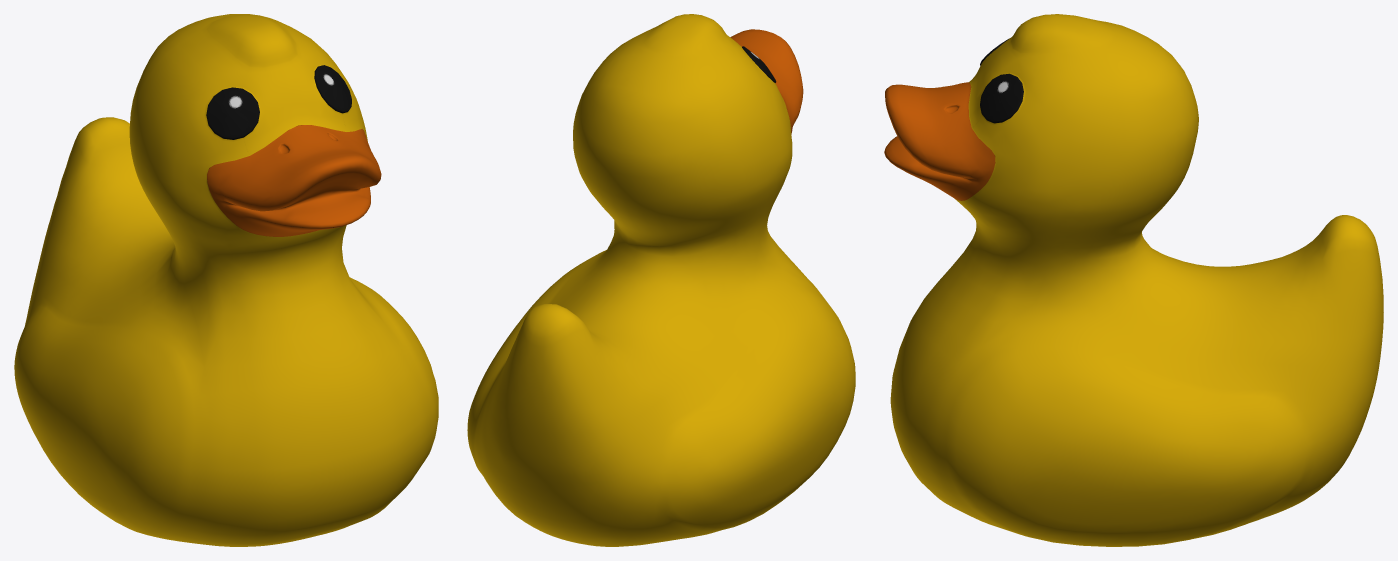
The model's file is duck-original.glb.
3 renders of one model, left to right at view 1: azimuth 30°, elevation 25°; view 2: azimuth 150°, elevation 25°; view 3: azimuth 270°, elevation 25°, orthographic. The views are drawn at different scales.
Visible parts, largest first — view 1: Node1; view 2: Node1; view 3: Node1.
Boxes of the visible parts, x1=… form: Node1: x1=14, y1=14, x2=438, y2=546; Node1: x1=467, y1=14, x2=855, y2=546; Node1: x1=884, y1=14, x2=1383, y2=546.
Bounding box in the file's own units: 0.725 × 1.05 × 0.9954.
1 material, 1 textured.
